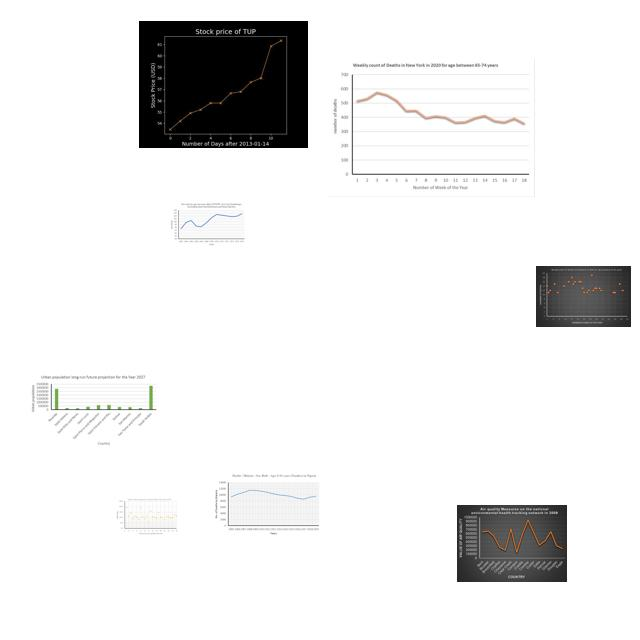Graph: (328, 59, 535, 197), (139, 21, 308, 148), (28, 372, 158, 447), (457, 505, 567, 582), (214, 473, 321, 536), (536, 266, 631, 327), (169, 202, 246, 247), (116, 498, 178, 535)
